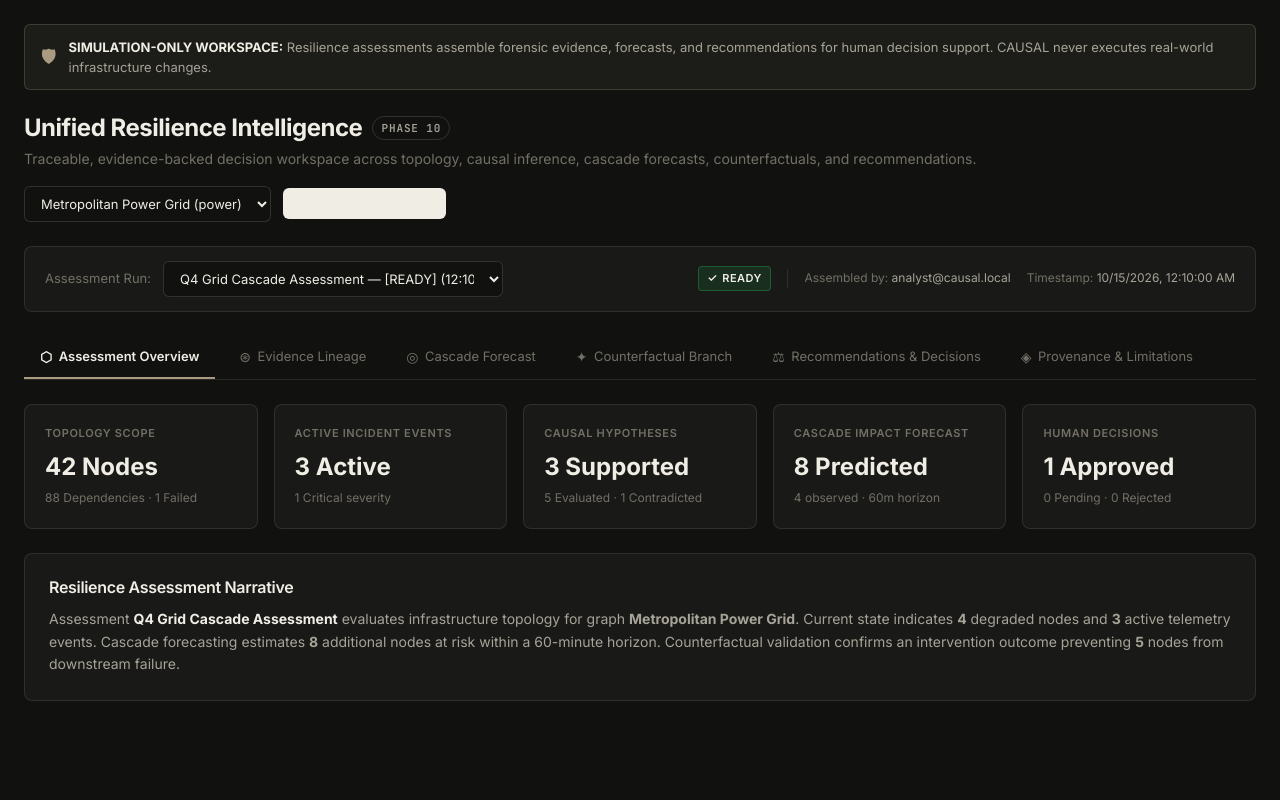
Unified Resilience Intelligence Workspace (/app/assessments) › switches to Counterfactual Branch tab and displays prevented vs new nodes
What coordinates should you click on to do the following:
click the tab with test id "tab-counterfactual"
I would click on:
 (654, 357)
Its box is [560,336,748,379].
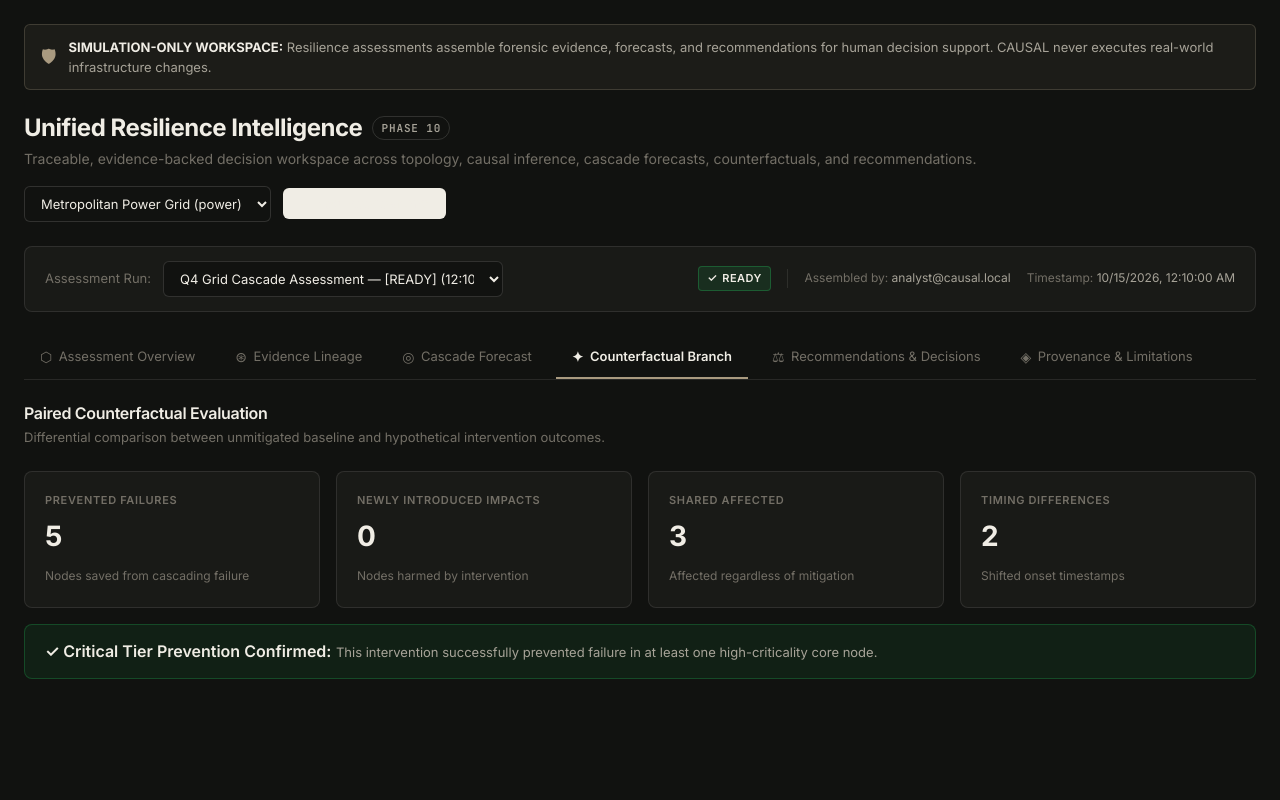
Check: the text with test id "prevented-node-count" reads "5", box [45,519,62,553]
Check: the heading "Paired Counterfactual Evaluation" is shown, box [24,403,268,423]
Check: the text "✓ Critical Tier Prevention Confirmed:" is shown, box [45,641,331,661]
